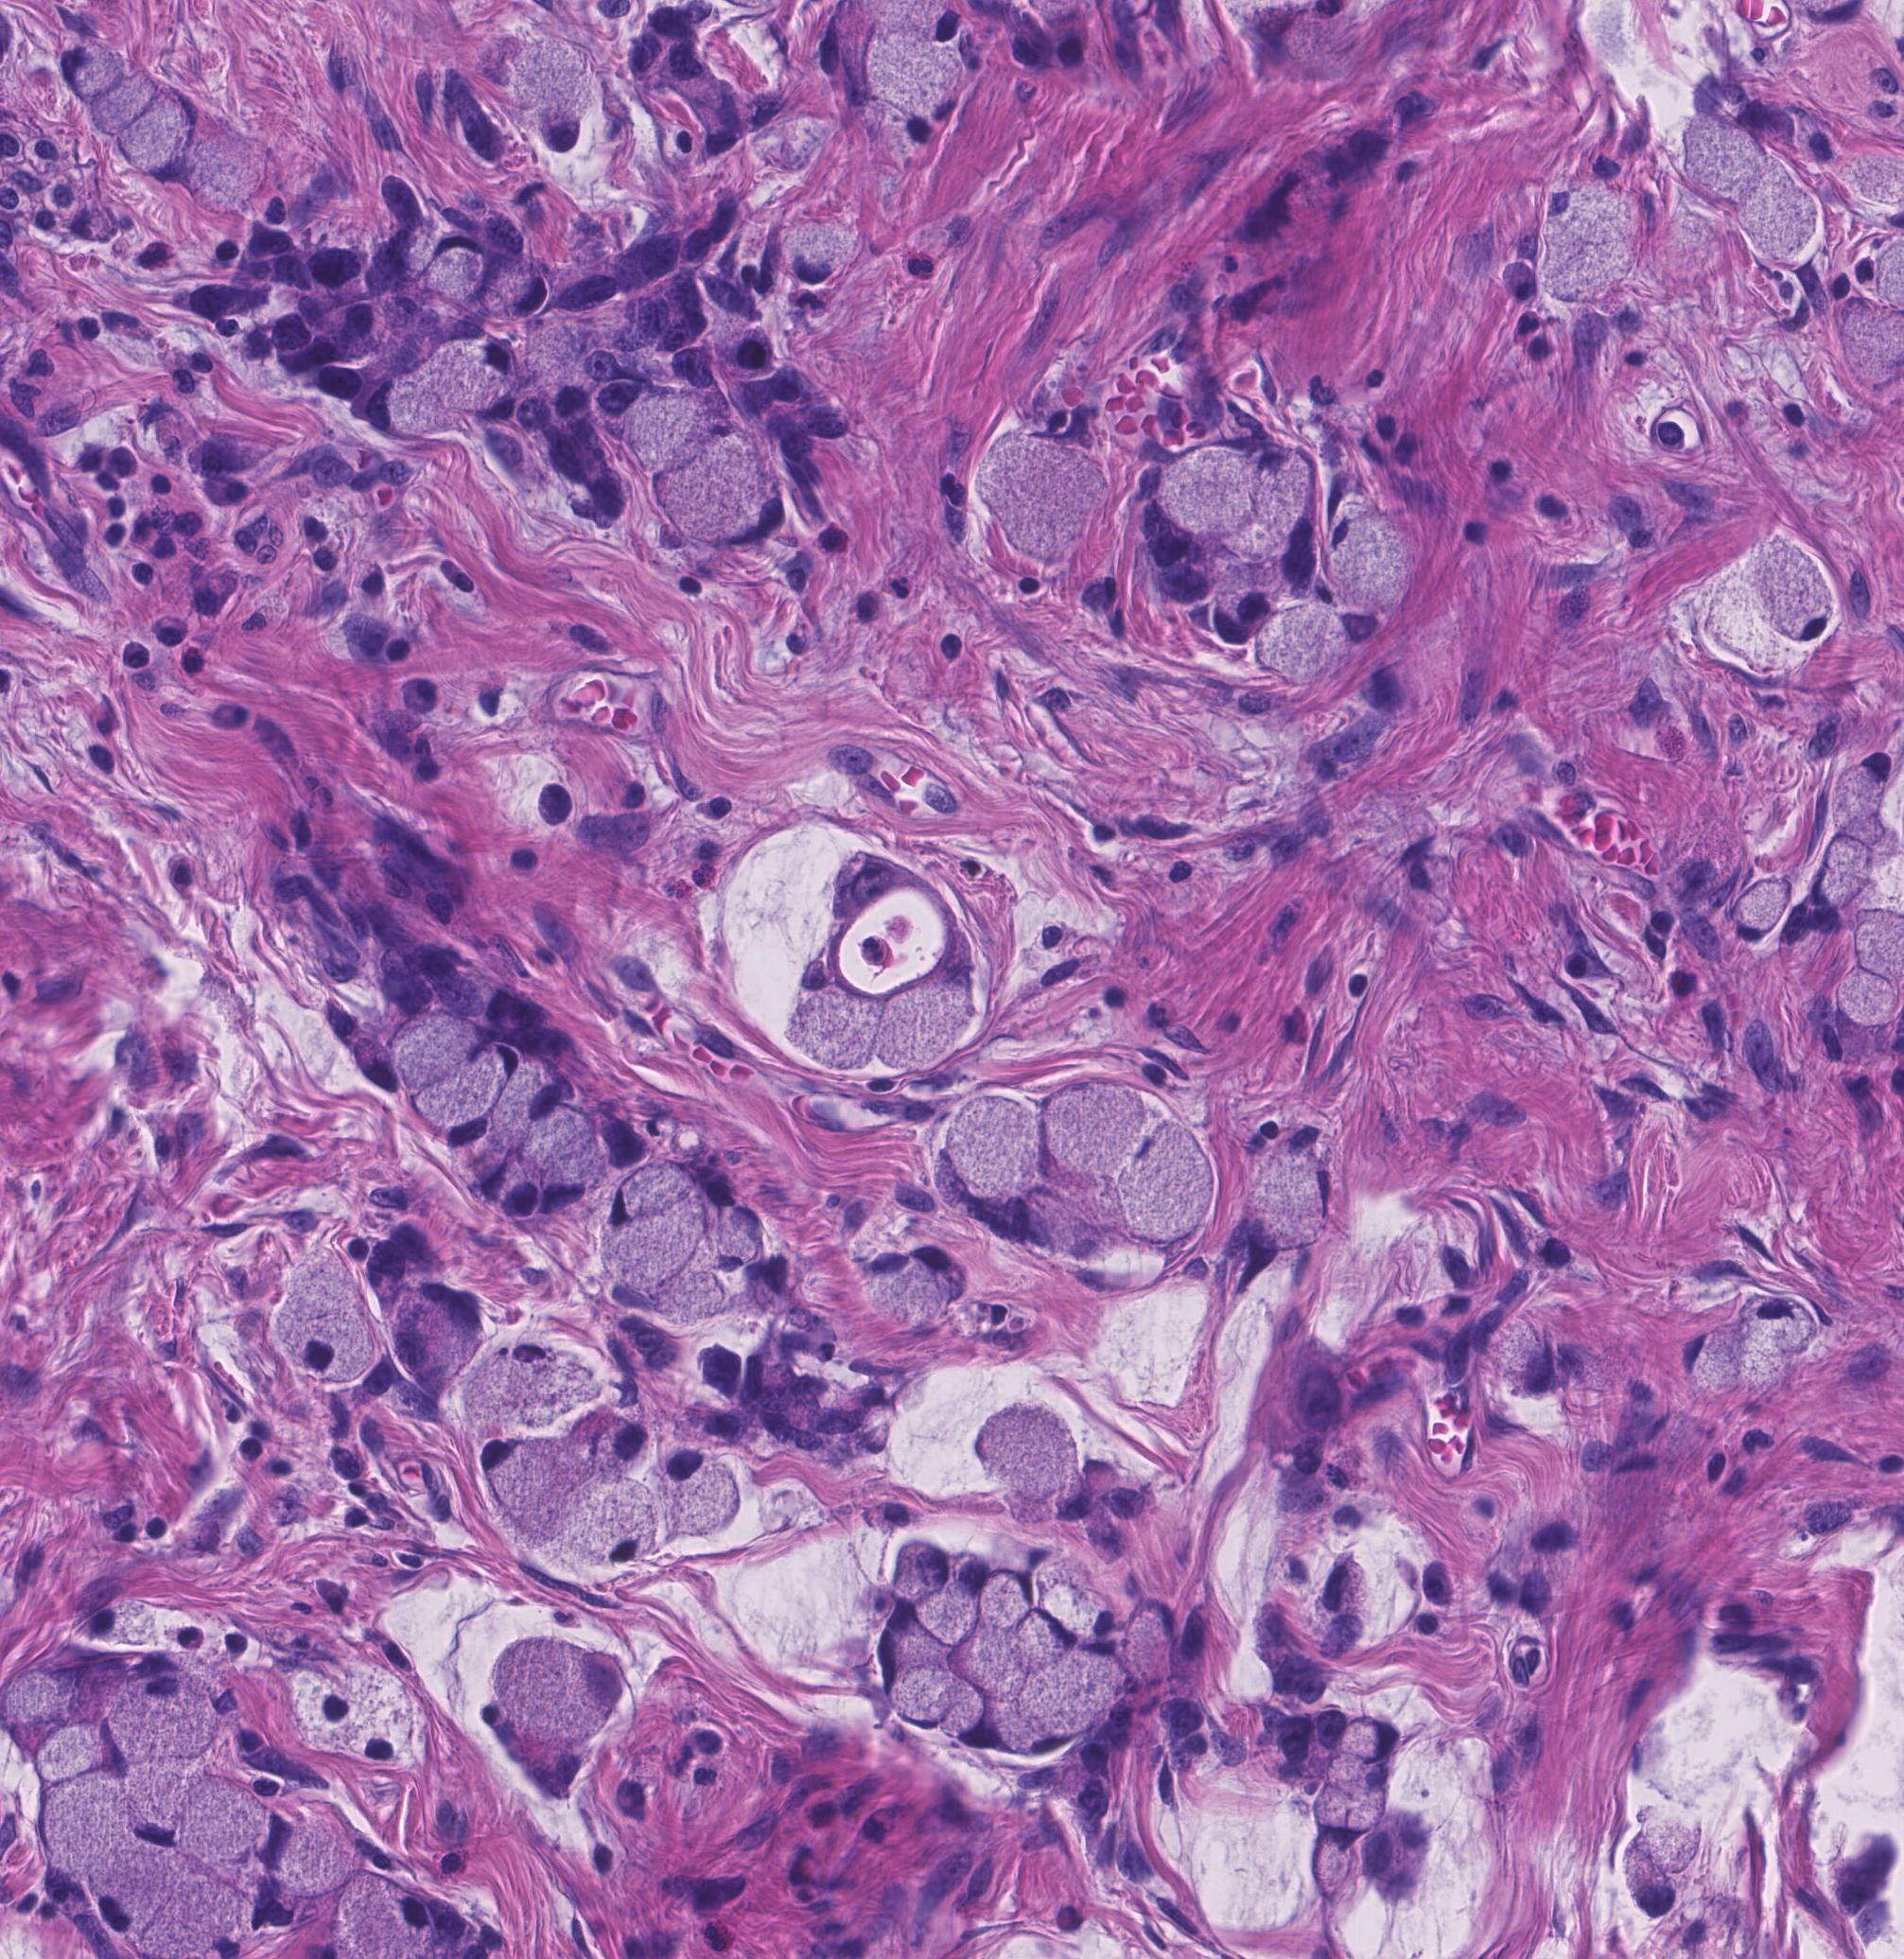ring_cell_cancer: (652, 436, 783, 547), (490, 1635, 619, 1746), (942, 1095, 1044, 1230), (972, 1401, 1088, 1518), (269, 1258, 374, 1385), (1119, 1121, 1213, 1245), (1248, 1128, 1336, 1259), (612, 1161, 703, 1286), (467, 1343, 593, 1429), (476, 1440, 579, 1541), (420, 1039, 516, 1140), (108, 1667, 213, 1760), (1247, 450, 1318, 581), (511, 38, 593, 149), (797, 962, 878, 1072), (888, 964, 976, 1063), (860, 37, 965, 117), (1748, 549, 1838, 644), (114, 1768, 210, 1849), (1019, 1679, 1122, 1753), (128, 82, 201, 184), (86, 1842, 168, 1931), (647, 1457, 743, 1532), (189, 1793, 292, 1863), (566, 1405, 652, 1487), (427, 329, 516, 408), (523, 1116, 605, 1196), (365, 369, 455, 443), (30, 1716, 122, 1786), (879, 1244, 956, 1326), (939, 1690, 1026, 1760), (778, 210, 855, 287), (563, 1497, 656, 1560), (420, 231, 490, 311), (1039, 1639, 1128, 1700), (1824, 749, 1895, 822), (1617, 1840, 1678, 1924), (495, 1069, 559, 1146), (1119, 1597, 1177, 1679), (1310, 1784, 1388, 1844), (886, 1667, 958, 1732), (1727, 871, 1785, 943), (1014, 1607, 1075, 1674), (54, 40, 122, 100), (864, 101, 932, 161), (892, 1541, 953, 1604), (1306, 1830, 1359, 1900), (976, 1567, 1037, 1627), (713, 1203, 764, 1272), (1336, 1712, 1399, 1765)
